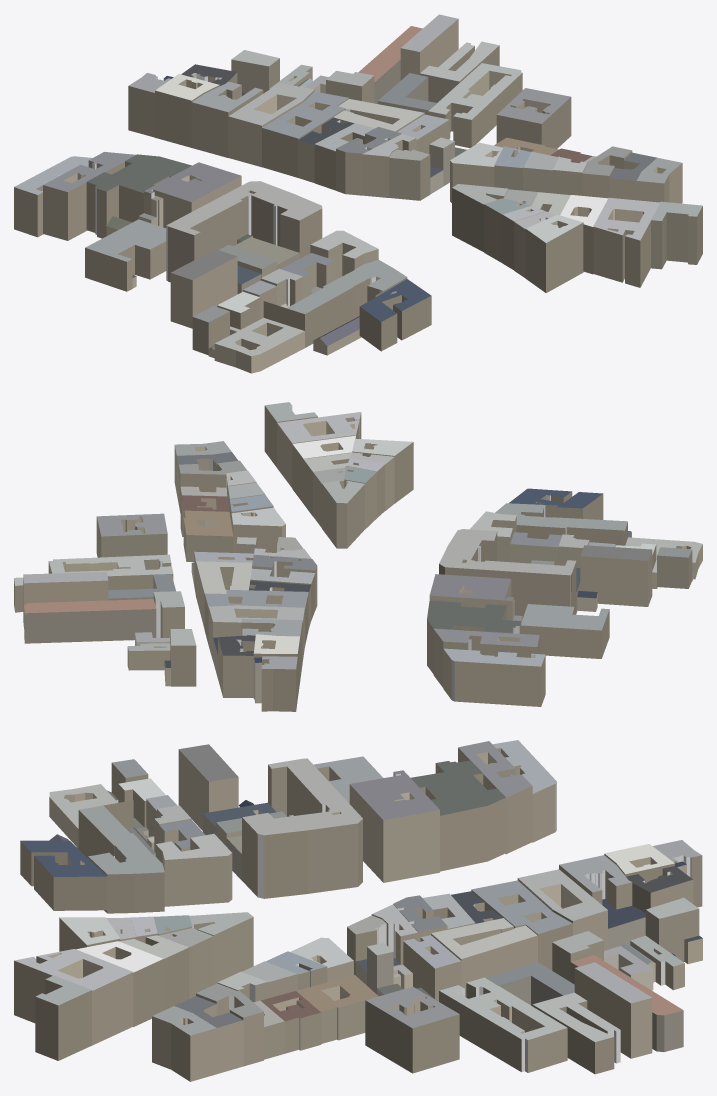
The picture shows the model from 3 angles, top to bottom: view 1: azimuth 30°, elevation 25°; view 2: azimuth 150°, elevation 25°; view 3: azimuth 270°, elevation 25°; orthographic projection. The views are drawn at different scales.
Parts seen in each view (by area): view 1: tuile; view 2: tuile; view 3: tuile.
Part boxes in pixels (box(x1,y1,x2,y2)): tuile: box(14, 14, 702, 373); tuile: box(14, 402, 702, 711); tuile: box(14, 740, 702, 1081).
Bounding box in the file's own units: 274 × 29.72 × 270.
